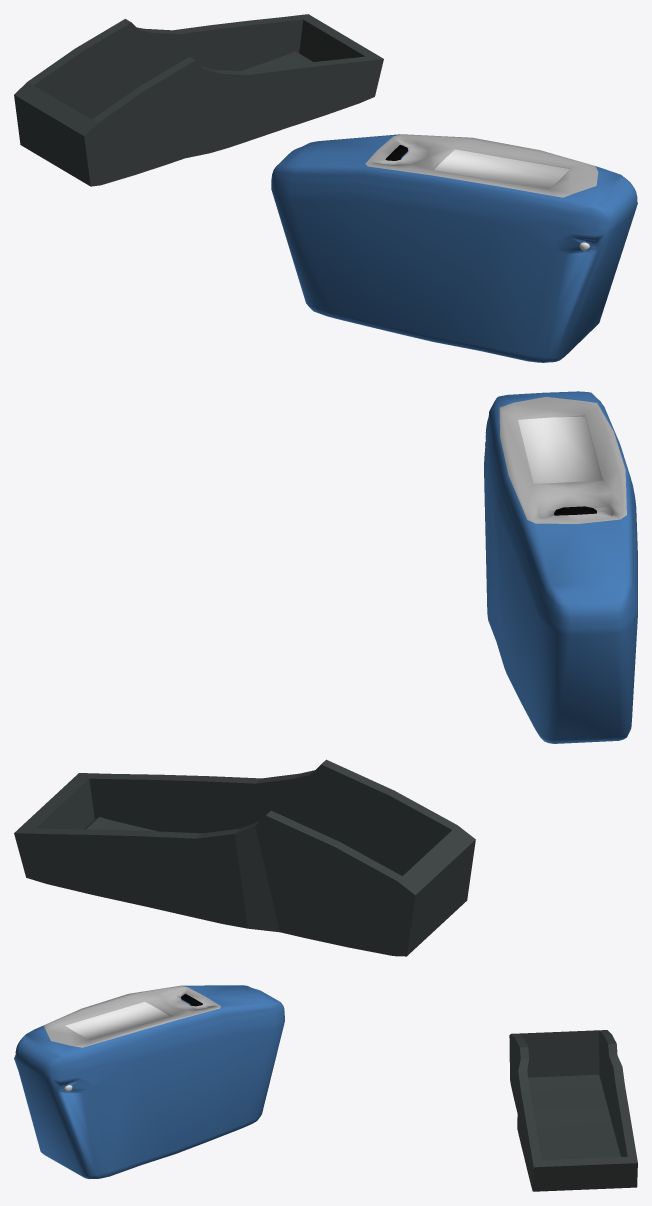
The model's file is brillometro estuche.fbx.
The picture shows the model from 3 angles, top to bottom: view 1: azimuth 30°, elevation 25°; view 2: azimuth 150°, elevation 25°; view 3: azimuth 270°, elevation 25°; orthographic projection. The views are drawn at different scales.
Parts seen in each view (by area): view 1: Cube, Cube.001; view 2: Cube.001, Cube; view 3: Cube, Cube.001.
Part boxes in pixels (box(x1,y1,x2,y2)): Cube: box(271, 134, 637, 362); Cube.001: box(14, 14, 383, 186); Cube.001: box(14, 759, 475, 956); Cube: box(484, 391, 637, 743); Cube: box(14, 985, 284, 1179); Cube.001: box(509, 1030, 637, 1191).
Size of the model in its own units: 13.82 by 6.83 by 28.59.
